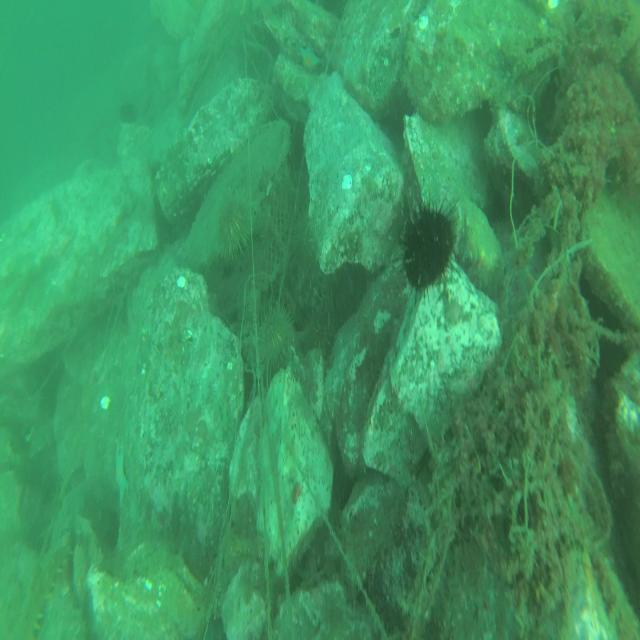echinus: (398, 188, 458, 294), (239, 300, 304, 381), (208, 191, 258, 264), (310, 313, 333, 359), (115, 97, 139, 131)
holothurian: (15, 541, 71, 640)
starfish: (110, 443, 130, 510), (297, 37, 321, 72)
